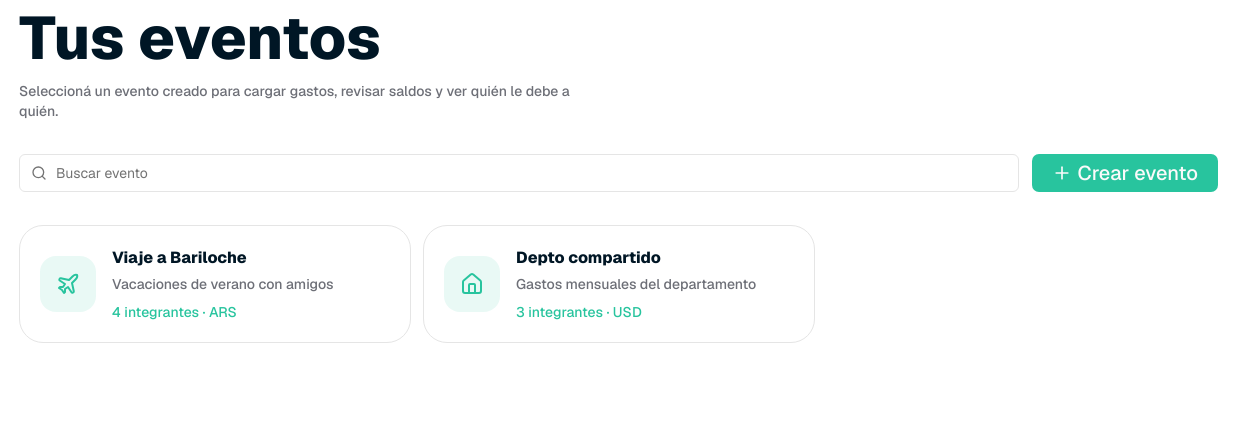
Scenario: EventsPage › distingue una búsqueda sin coincidencias del estado vacío
The image size is (1236, 428).
Expected: the heading "Viaje a Bariloche" is shown, [112,247,247,268]
Type "zzz" into the field labelled "Buscar evento" at (519, 173), box [19,154,1019,192]
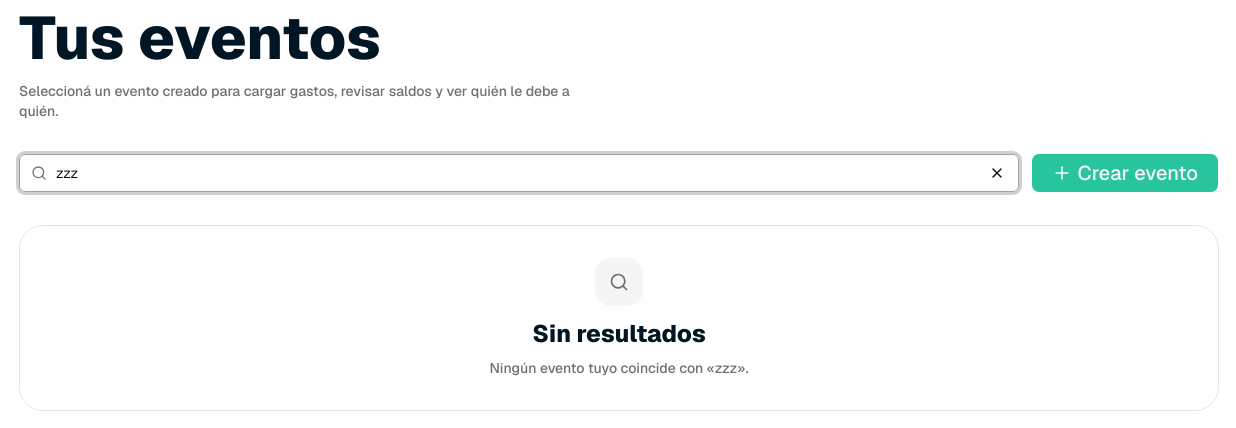
Now the heading "Sin resultados" is shown, box [532,318,706,349]
